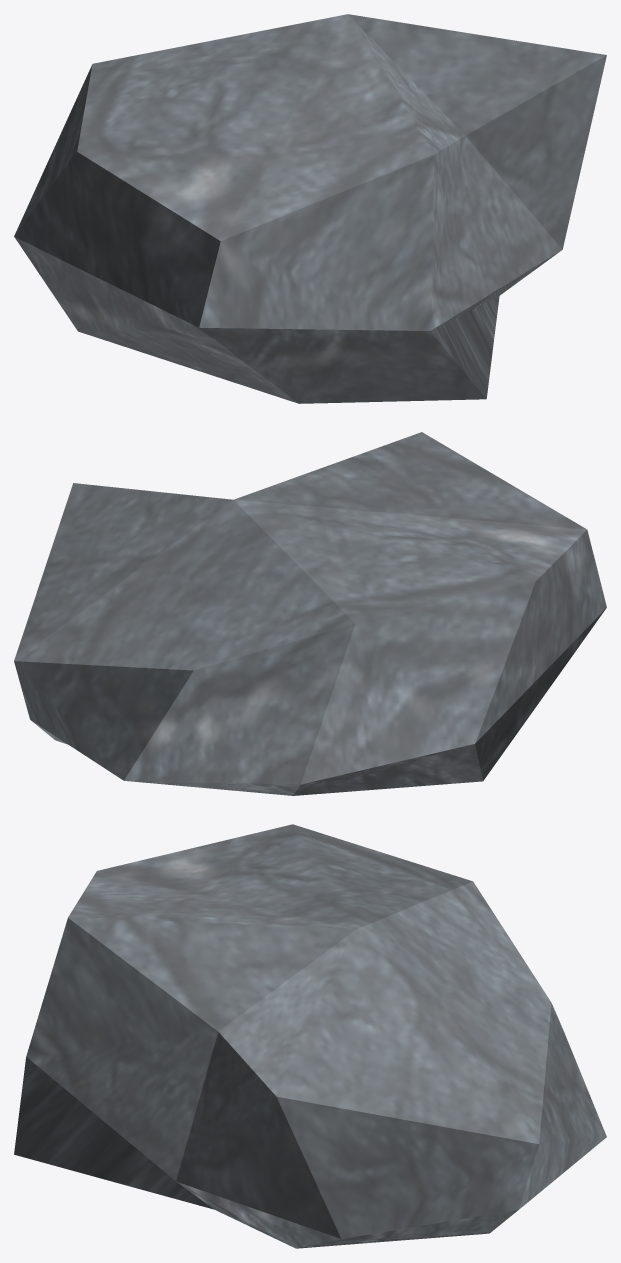
File: RockF.fbx
3 views of the same model, one above another, from view 1: azimuth 30°, elevation 25°; view 2: azimuth 150°, elevation 25°; view 3: azimuth 270°, elevation 25° (orthographic). The views are drawn at different scales.
Visible parts, largest first — view 1: RockF; view 2: RockF; view 3: RockF.
Part boxes in pixels (x1,y1,x2,y2): RockF: [14, 14, 606, 403]; RockF: [14, 432, 606, 795]; RockF: [14, 824, 606, 1248].
Bounding box in the file's own units: 239 × 109 × 241.
